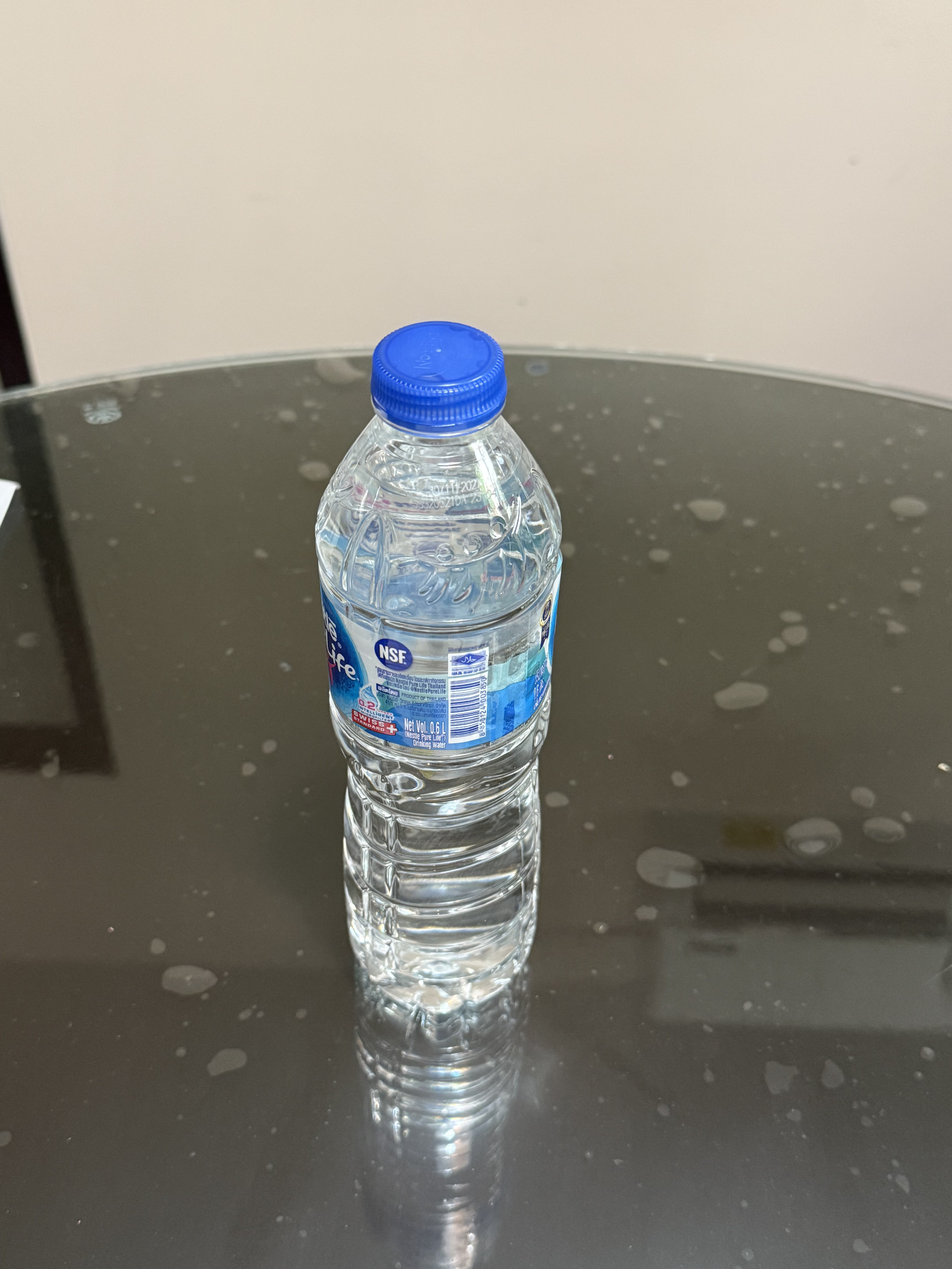closed_cap: (367, 317, 509, 433)
